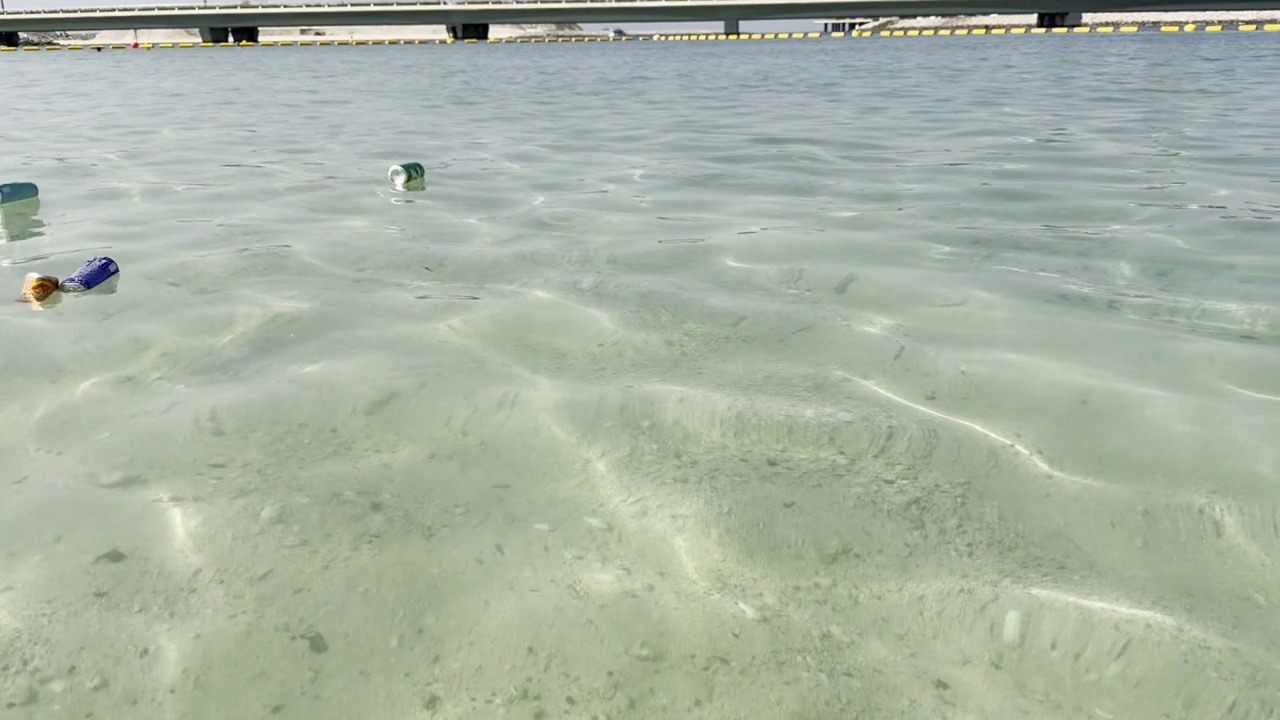debris: (57, 245, 131, 309), (14, 269, 65, 318), (380, 150, 426, 195), (0, 176, 45, 209)
